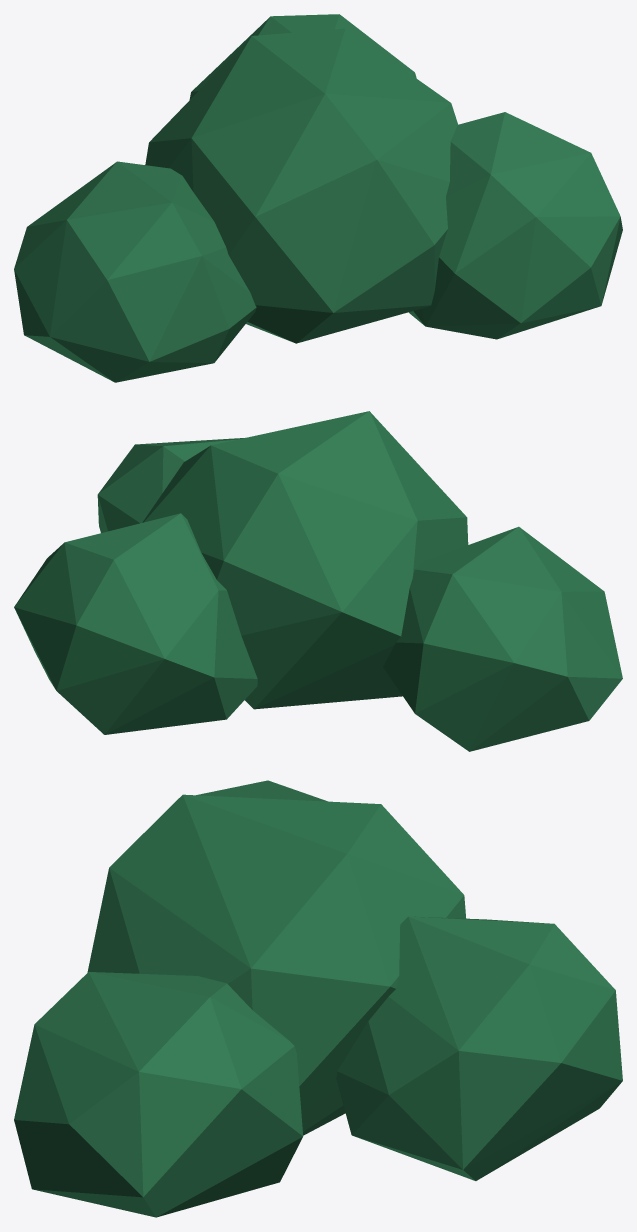
Rendered from floresta_bush_clumps_small.glb.
The picture shows the model from 3 angles, top to bottom: view 1: azimuth 30°, elevation 25°; view 2: azimuth 150°, elevation 25°; view 3: azimuth 270°, elevation 25°; orthographic projection. The views are drawn at different scales.
Parts seen in each view (by area): view 1: Bush clumps small f; view 2: Bush clumps small f; view 3: Bush clumps small f.
Boxes of the visible parts, x1,y1,x2,y2 form: Bush clumps small f: (14, 14, 622, 382); Bush clumps small f: (14, 411, 622, 751); Bush clumps small f: (14, 780, 622, 1217).
Size of the model in its own units: 3.23 by 1.38 by 2.58.
